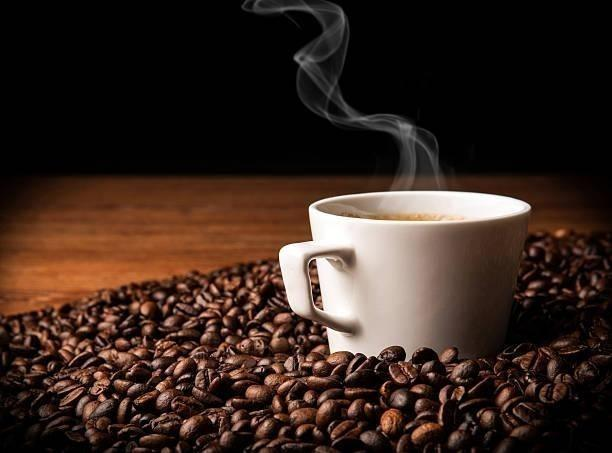cup-handle: (278, 189, 533, 370)
